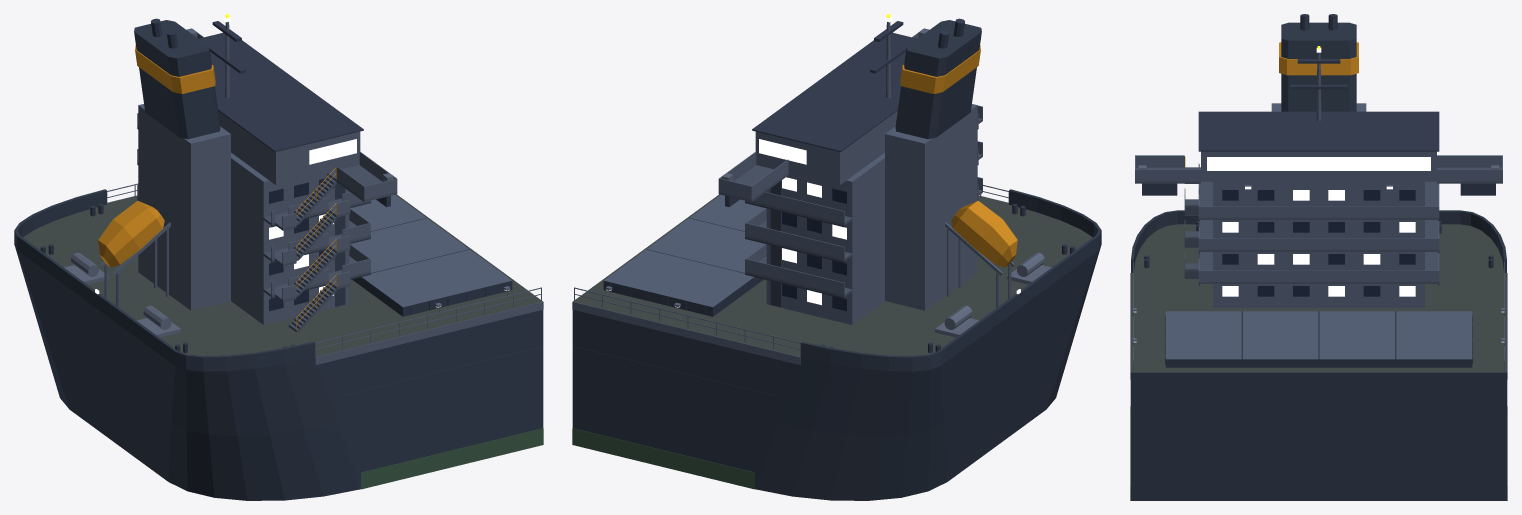
File: port_ship_stern.glb
3 renders of one model, left to right at view 1: azimuth 30°, elevation 25°; view 2: azimuth 150°, elevation 25°; view 3: azimuth 270°, elevation 25°, orthographic. The views are drawn at different scales.
Parts seen in each view (by area): view 1: hull, railing, trim, stairs, lifeboat, boot_top, fittings, windows, bridge_windows; view 2: hull, railing, trim, lifeboat, boot_top, stairs, fittings, windows, deck_light, bridge_windows; view 3: hull, railing, trim, stairs, bridge_windows, windows, deck_light, lifeboat.
Boxes of the visible parts, left/top/right/bottom form: hull: left=14, top=20, right=543, bottom=500; railing: left=101, top=22, right=543, bottom=365; trim: left=40, top=18, right=543, bottom=396; stairs: left=137, top=125, right=397, bottom=332; lifeboat: left=98, top=45, right=336, bottom=329; boot_top: left=361, top=428, right=543, bottom=489; fittings: left=64, top=29, right=510, bottom=337; windows: left=269, top=178, right=333, bottom=311; bridge_windows: left=309, top=139, right=356, bottom=164; hull: left=572, top=20, right=1101, bottom=500; railing: left=572, top=22, right=1014, bottom=365; trim: left=572, top=18, right=1075, bottom=396; lifeboat: left=900, top=45, right=1017, bottom=267; boot_top: left=572, top=428, right=754, bottom=489; stairs: left=718, top=118, right=982, bottom=297; fittings: left=605, top=29, right=1051, bottom=337; windows: left=782, top=188, right=846, bottom=311; deck_light: left=606, top=16, right=1020, bottom=307; bridge_windows: left=759, top=139, right=806, bottom=164; hull: left=1131, top=22, right=1506, bottom=500; railing: left=1130, top=52, right=1507, bottom=379; trim: left=1130, top=14, right=1507, bottom=412; stairs: left=1135, top=167, right=1502, bottom=283; bridge_windows: left=1207, top=157, right=1430, bottom=170; windows: left=1222, top=190, right=1415, bottom=296; deck_light: left=1133, top=47, right=1504, bottom=342; lifeboat: left=1184, top=42, right=1358, bottom=166.
Size of the model in its own units: 30 by 34.25 by 32.
